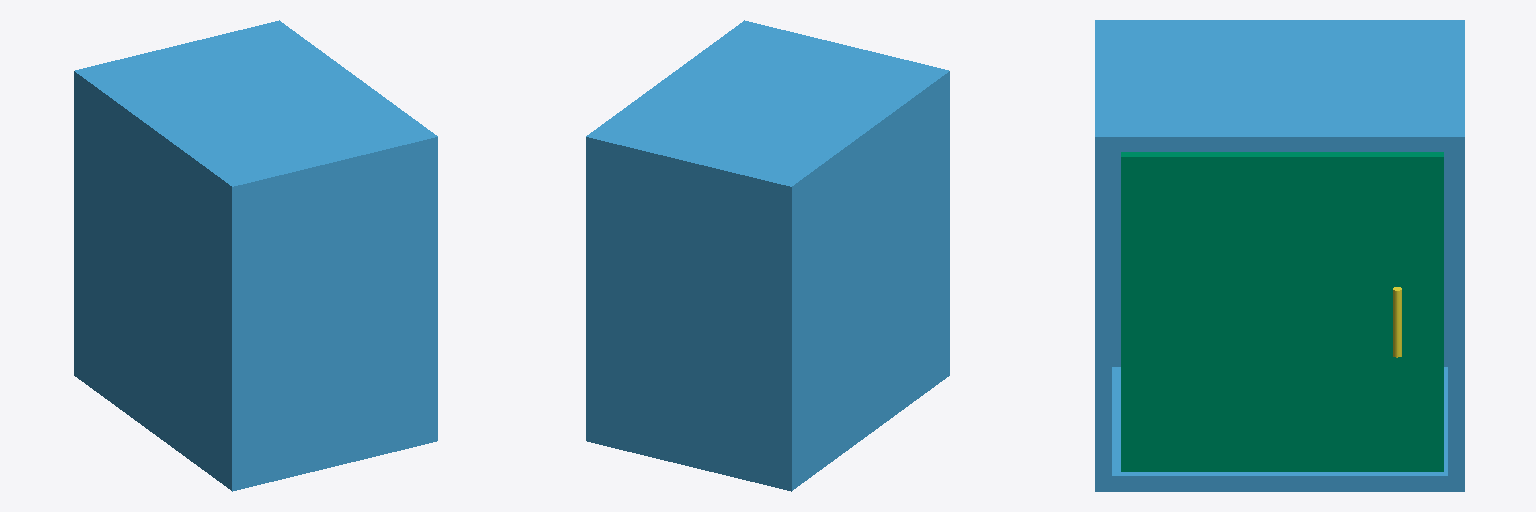
URDF robot description (my_cabinet):
<?xml version="1.0" ?>
<robot name="my_cabinet">
	<link name="world"/>
	<joint name="virtual_joint" type="fixed">
		<parent link="world"/>
		<child link="base_cabinet_link"/>
		<origin xyz="0.0 0.0 0.0" rpy="0.0 0.0 0.0"/>
	</joint>
	<link name="base_cabinet_link">
		<visual>
			<origin xyz="0.0 -0.0025 -0.20306591665512508" rpy="0.0 0.0 0.0"/>
			<geometry>
				<box size="0.3 0.4009107593829217 0.018"/>
			</geometry>
		</visual>
		<collision name="base_cabinet_link_collision_0">
			<origin xyz="0.0 -0.0025 -0.20306591665512508" rpy="0.0 0.0 0.0"/>
			<geometry>
				<box size="0.3 0.4009107593829217 0.018"/>
			</geometry>
		</collision>
		<visual>
			<origin xyz="0.0 0.18895537969146087 0.0" rpy="0.0 0.0 0.0"/>
			<geometry>
				<box size="0.3 0.018 0.4241318333102502"/>
			</geometry>
		</visual>
		<collision name="base_cabinet_link_collision_1">
			<origin xyz="0.0 0.18895537969146087 0.0" rpy="0.0 0.0 0.0"/>
			<geometry>
				<box size="0.3 0.018 0.4241318333102502"/>
			</geometry>
		</collision>
		<visual>
			<origin xyz="0.0 -0.19395537969146087 0.0" rpy="0.0 0.0 0.0"/>
			<geometry>
				<box size="0.3 0.018 0.4241318333102502"/>
			</geometry>
		</visual>
		<collision name="base_cabinet_link_collision_2">
			<origin xyz="0.0 -0.19395537969146087 0.0" rpy="0.0 0.0 0.0"/>
			<geometry>
				<box size="0.3 0.018 0.4241318333102502"/>
			</geometry>
		</collision>
		<visual>
			<origin xyz="0.0 -0.0025 0.20306591665512508" rpy="0.0 0.0 0.0"/>
			<geometry>
				<box size="0.3 0.4009107593829217 0.018"/>
			</geometry>
		</visual>
		<collision name="base_cabinet_link_collision_3">
			<origin xyz="0.0 -0.0025 0.20306591665512508" rpy="0.0 0.0 0.0"/>
			<geometry>
				<box size="0.3 0.4009107593829217 0.018"/>
			</geometry>
		</collision>
		<visual>
			<origin xyz="-0.141 -0.0025 0.0" rpy="0.0 0.0 0.0"/>
			<geometry>
				<box size="0.018 0.4009107593829217 0.4241318333102502"/>
			</geometry>
		</visual>
		<collision name="base_cabinet_link_collision_4">
			<origin xyz="-0.141 -0.0025 0.0" rpy="0.0 0.0 0.0"/>
			<geometry>
				<box size="0.018 0.4009107593829217 0.4241318333102502"/>
			</geometry>
		</collision>
		<inertial>
			<mass value="0.200000"/>
			<inertia ixx="0.005677" ixy="0.0" ixz="0.0" iyy="0.004498" iyz="0.0" izz="0.004179"/>
		</inertial>
	</link>
	<link name="door_link">
		<visual>
			<origin xyz="0.0 -0.17495537969146085 0.0"/>
			<geometry>
				<box size="0.018 0.3499107593829217 0.37813183331025013"/>
			</geometry>
		</visual>
		<collision name="door_link_collision">
			<origin xyz="0.0 -0.17495537969146085 0.0"/>
			<geometry>
				<box size="0.018 0.3499107593829217 0.37813183331025013"/>
			</geometry>
		</collision>
		<inertial>
			<mass value="0.200000"/>
			<inertia ixx="0.004424" ixy="0.0" ixz="0.0" iyy="0.002388" iyz="0.0" izz="0.002046"/>
		</inertial>
	</link>
	<joint name="door_joint" type="revolute">
		<origin xyz="0.141 -0.17495537969146085 0.0" rpy="0.000000 -0.000000 3.141593"/>
		<axis xyz="0 0 1"/>
		<parent link="base_cabinet_link"/>
		<child link="door_link"/>
		<limit effort="50" lower="-1.658062789394613" upper="0" velocity="10"/>
		<dynamics friction="3.5" damping="3.5"/>
	</joint>
	<link name="handle_link">
		<visual>
			<origin xyz="0.0 0.0 0.0" rpy="0.0 0.0 0.0"/>
			<geometry>
				<cylinder length="0.08" radius="0.005"/>
			</geometry>
		</visual>
		<collision name="handle_link_collision_0">
			<origin xyz="0.0 0.0 0.0" rpy="0.0 0.0 0.0"/>
			<geometry>
				<cylinder length="0.08" radius="0.005"/>
			</geometry>
		</collision>
		<visual>
			<origin xyz="-0.01 0.0 0.02" rpy="0.0 1.5707963267948966 0.0"/>
			<geometry>
				<cylinder length="0.02" radius="0.003"/>
			</geometry>
		</visual>
		<collision name="handle_link_collision_1">
			<origin xyz="-0.01 0.0 0.02" rpy="0.0 1.5707963267948966 0.0"/>
			<geometry>
				<cylinder length="0.01" radius="0.003"/>
			</geometry>
		</collision>
		<visual>
			<origin xyz="-0.01 0.0 -0.02" rpy="0.0 1.5707963267948966 0.0"/>
			<geometry>
				<cylinder length="0.02" radius="0.003"/>
			</geometry>
		</visual>
		<collision name="handle_link_collision_2">
			<origin xyz="-0.01 0.0 -0.02" rpy="0.0 1.5707963267948966 0.0"/>
			<geometry>
				<cylinder length="0.02" radius="0.003"/>
			</geometry>
		</collision>
		<inertial>
			<mass value="0.050000"/>
			<inertia ixx="0.000027" ixy="0.0" ixz="0.0" iyy="0.000029" iyz="0.0" izz="0.000003"/>
		</inertial>
	</link>
	<joint name="handle_joint" type="fixed">
		<origin xyz="-0.028999999999999998 -0.2999107593829217 0.0" rpy="0.000000 -0.000000 3.141593"/>
		<parent link="door_link"/>
		<child link="handle_link"/>
	</joint>
	<gazebo reference="base_cabinet_link">
		<sensor name="main_sensor" type="contact">
			<selfCollide>true</selfCollide>
			<alwaysOn>true</alwaysOn>
			<updateRate>5.0</updateRate>
			<material>Gazebo/Red</material>
			<contact>
				<collision>base_cabinet_link_collision_0_collision</collision>
				<collision>base_cabinet_link_collision_1_collision</collision>
				<collision>base_cabinet_link_collision_2_collision</collision>
				<collision>base_cabinet_link_collision_3_collision</collision>
				<collision>base_cabinet_link_collision_4_collision</collision>
			</contact>
			<plugin name="gazebo_ros_bumper_controller" filename="libgazebo_ros_bumper.so">
				<bumperTopicName>/contact</bumperTopicName>
				<frameName>world</frameName>
			</plugin>
		</sensor>
	</gazebo>
	<gazebo reference="door_link">
		<sensor name="main_sensor" type="contact">
			<selfCollide>true</selfCollide>
			<alwaysOn>true</alwaysOn>
			<updateRate>5.0</updateRate>
			<material>Gazebo/Red</material>
			<contact>
				<collision>door_link_collision_collision</collision>
			</contact>
			<plugin name="gazebo_ros_bumper_controller" filename="libgazebo_ros_bumper.so">
				<bumperTopicName>/contact_door</bumperTopicName>
				<frameName>contact_door</frameName>
			</plugin>
		</sensor>
	</gazebo>
	<gazebo reference="door_link">
		<mu>3.0</mu>
		<mu2>3.0</mu2>
		<kp>10000000</kp>
		<kd>100</kd>
	</gazebo>
</robot>

--- What the picture shows (computed from the rendered views, not written in the file) ---
The picture shows the robot from 3 angles, left to right: view 1: azimuth 30°, elevation 25°; view 2: azimuth 150°, elevation 25°; view 3: azimuth 270°, elevation 25°; orthographic projection.
Model my_cabinet with 4 links and 3 joints (1 revolute, 2 fixed), rooted at world, posed all joints at 0.
Links seen in each view (by area): view 1: base_cabinet_link; view 2: base_cabinet_link; view 3: door_link, base_cabinet_link, handle_link.
Boxes of the visible links, x1,y1,x2,y2 form: base_cabinet_link: [74, 20, 437, 491]; base_cabinet_link: [586, 20, 949, 491]; door_link: [1121, 152, 1443, 471]; base_cabinet_link: [1095, 20, 1464, 491]; handle_link: [1393, 287, 1401, 357].
Bounding box of the posed robot: 0.325 × 0.4009 × 0.4241 m (x, y, z).
Geometry: primitives only (box / cylinder / sphere), no mesh files.
